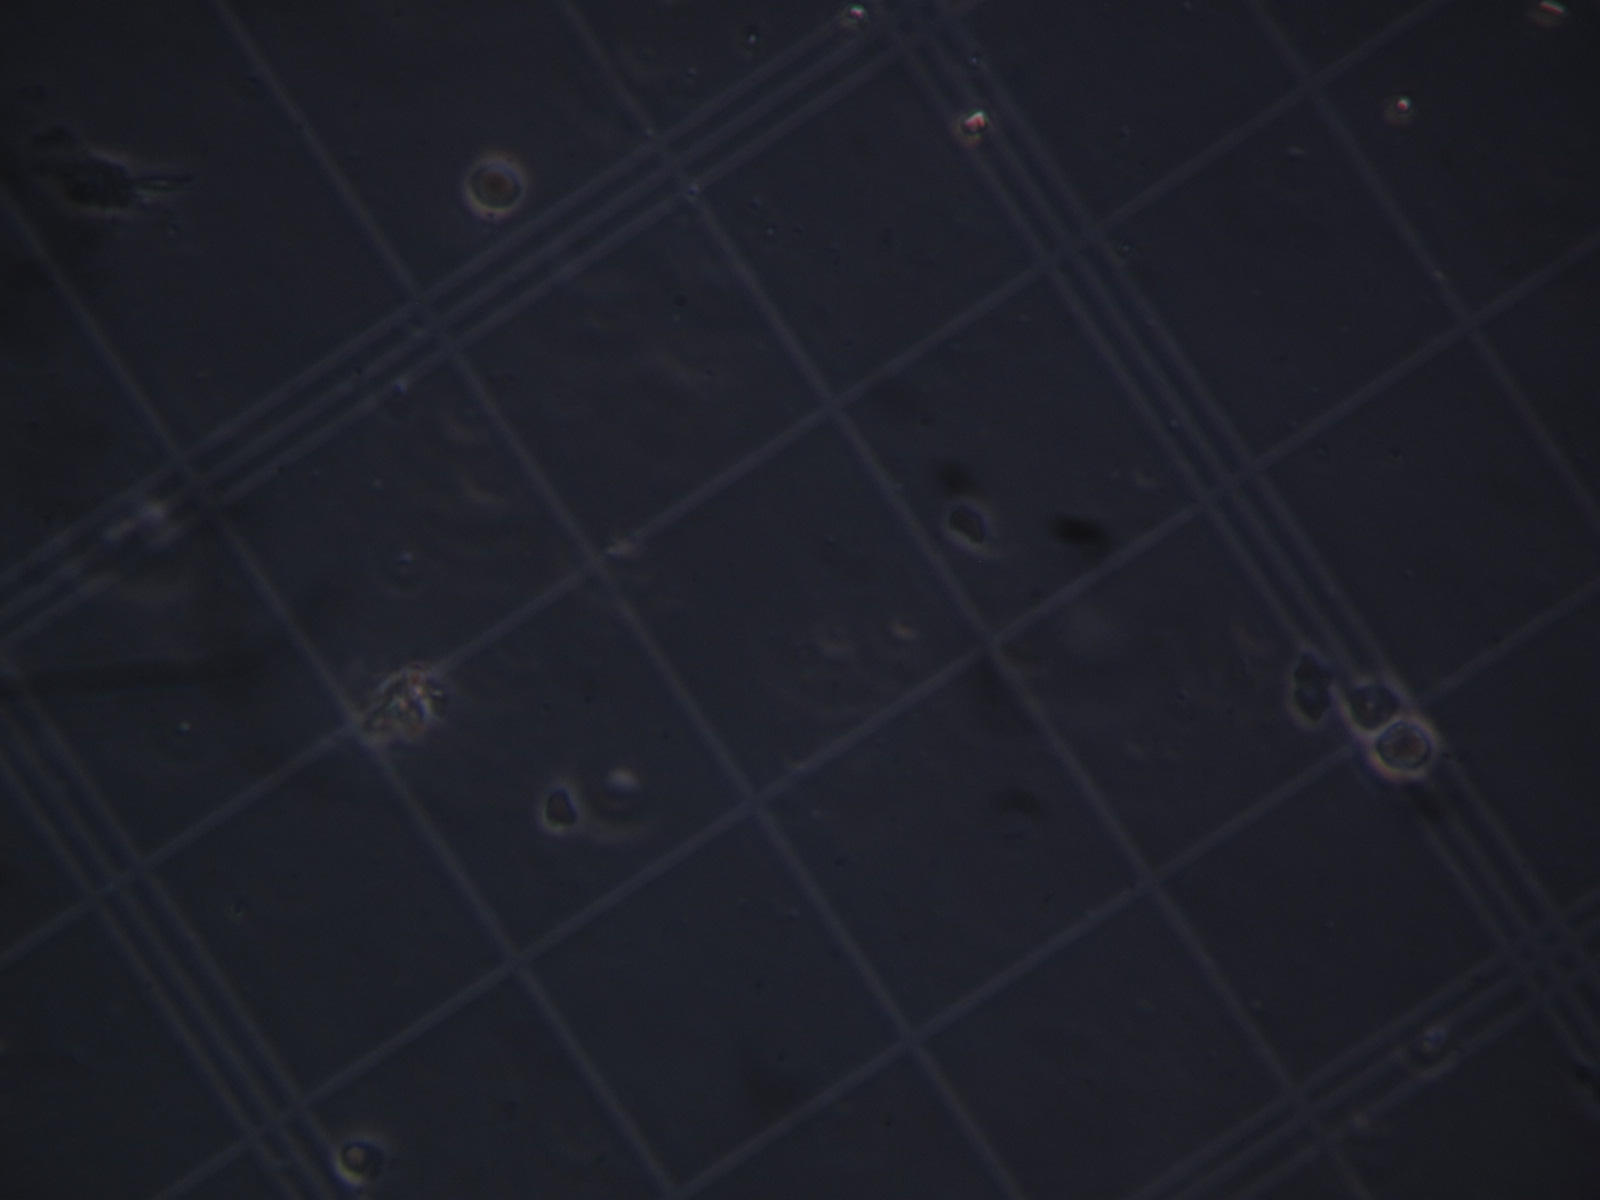hemo: (1367, 717, 1441, 782), (1284, 640, 1339, 724), (459, 149, 527, 212), (1339, 674, 1403, 736), (333, 1134, 393, 1187)
